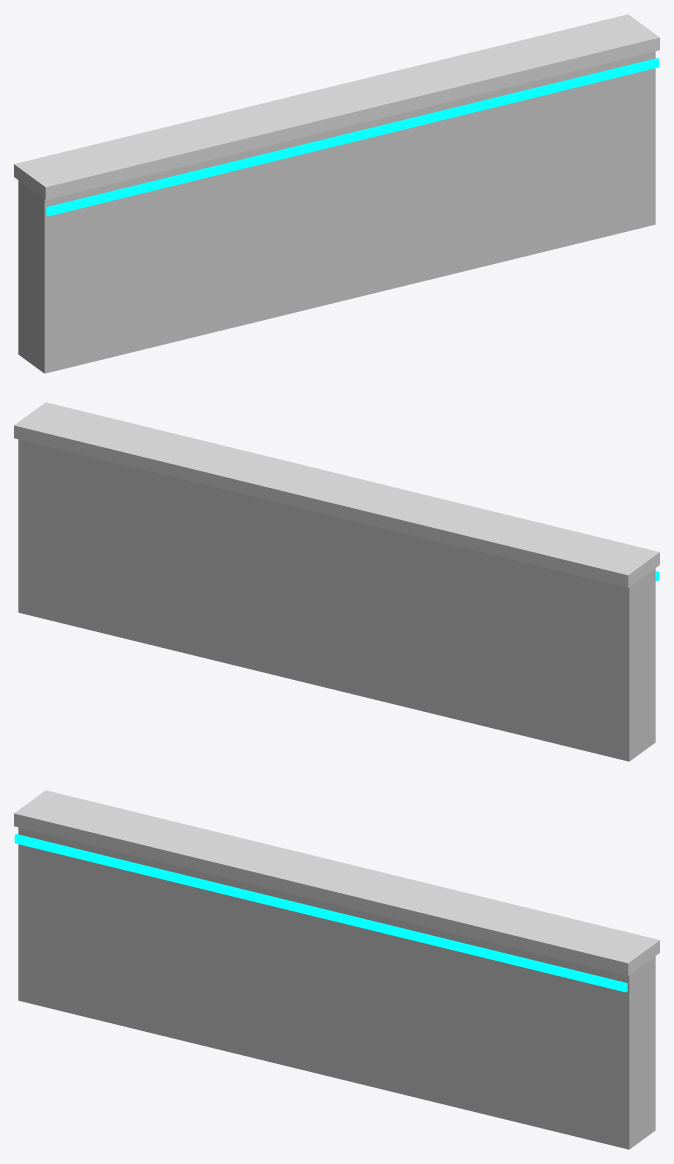
Rendered from OCK_Bay_Parapet_B.fbx.
The picture shows the model from 3 angles, top to bottom: view 1: azimuth 30°, elevation 25°; view 2: azimuth 150°, elevation 25°; view 3: azimuth 330°, elevation 25°; orthographic projection.
Parts seen in each view (by area): view 1: OCK_Bay_Parapet_B; view 2: OCK_Bay_Parapet_B; view 3: OCK_Bay_Parapet_B.
Boxes of the visible parts, box(x1,y1,x2,y2) form: OCK_Bay_Parapet_B: box(14, 14, 659, 373); OCK_Bay_Parapet_B: box(14, 402, 659, 761); OCK_Bay_Parapet_B: box(14, 790, 659, 1149).
Bounding box in the file's own units: 402 × 118 × 37.
